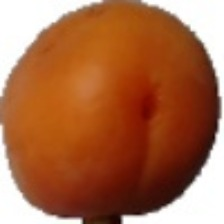apricot: (22, 31, 196, 216)
